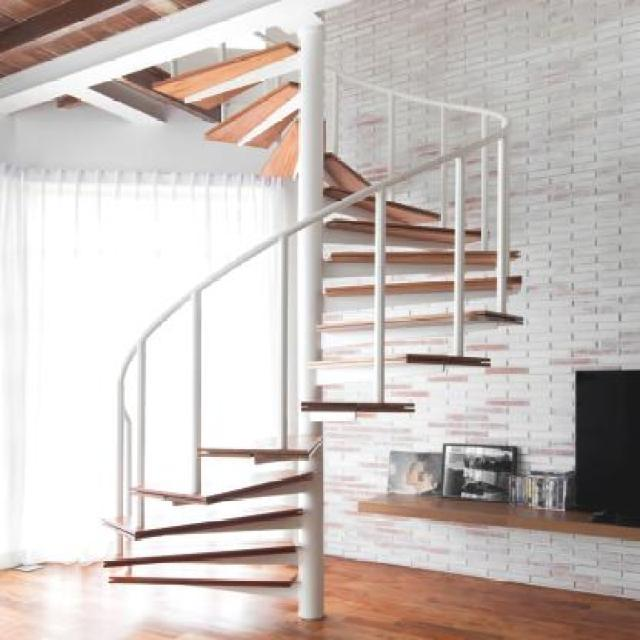stair: (16, 12, 541, 622)
